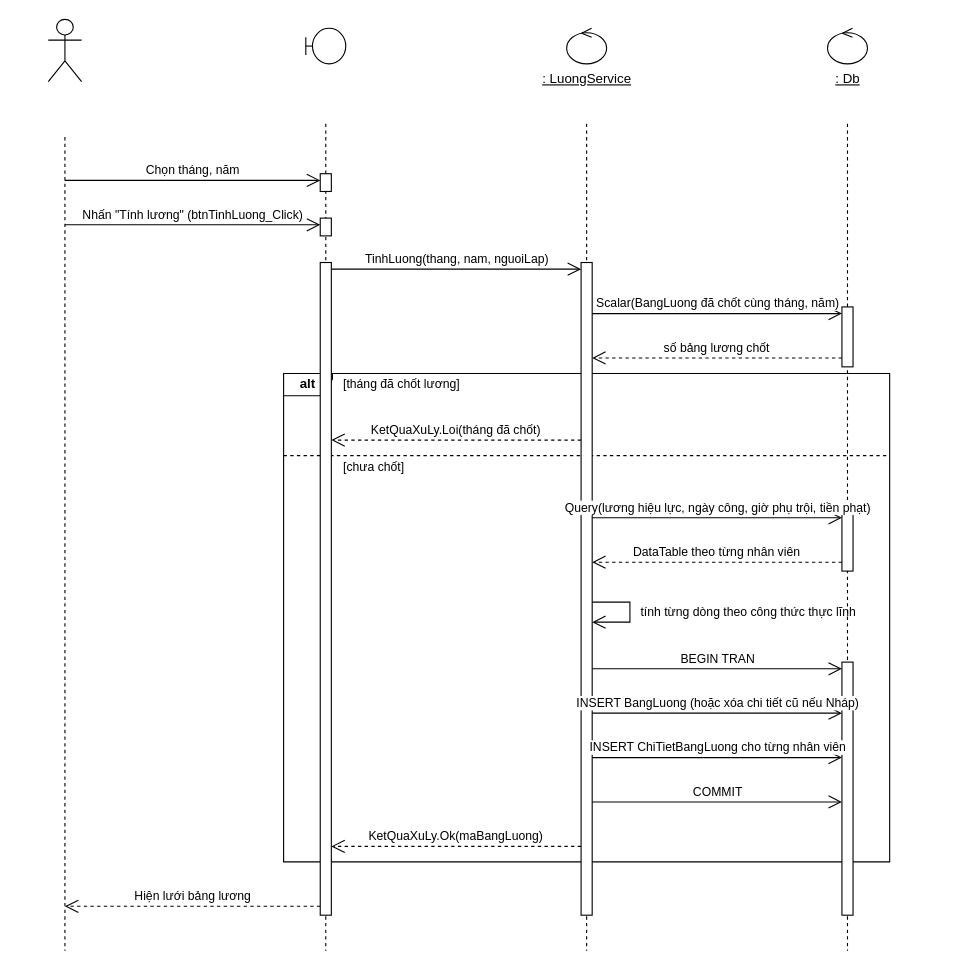
This 958x971 diagram has some shape labels left out. The shapes that lost their labels are listed below. From the top down, each one's box as (x1, y1, x2, y2) in pixels, then its label:
(47, 18, 82, 82): : Kế toán lương
(305, 27, 346, 64): : FrmTinhLuong
